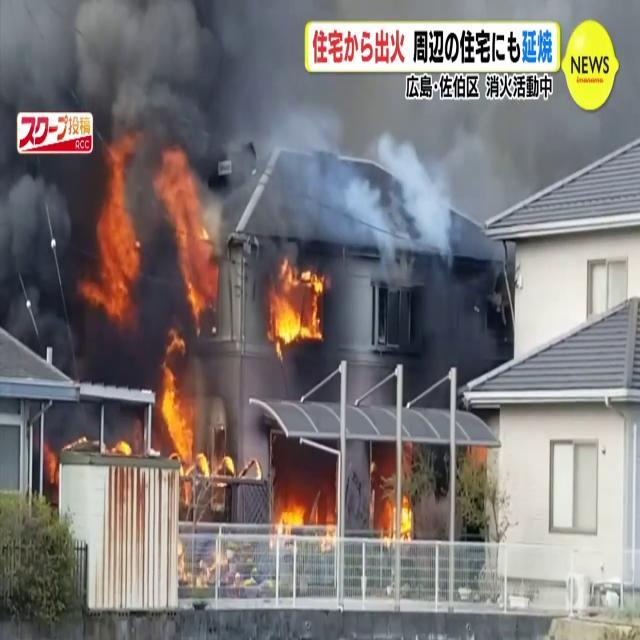Fire: (155, 334, 226, 488), (86, 132, 144, 320), (160, 143, 220, 324), (264, 252, 330, 352), (272, 487, 336, 546), (377, 486, 415, 546)
Smoke: (0, 0, 633, 249), (0, 0, 232, 344)
